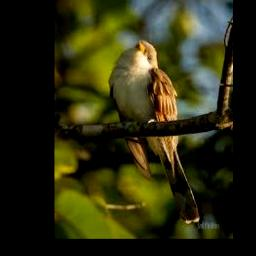Cuckoo: (110, 40, 199, 224)
